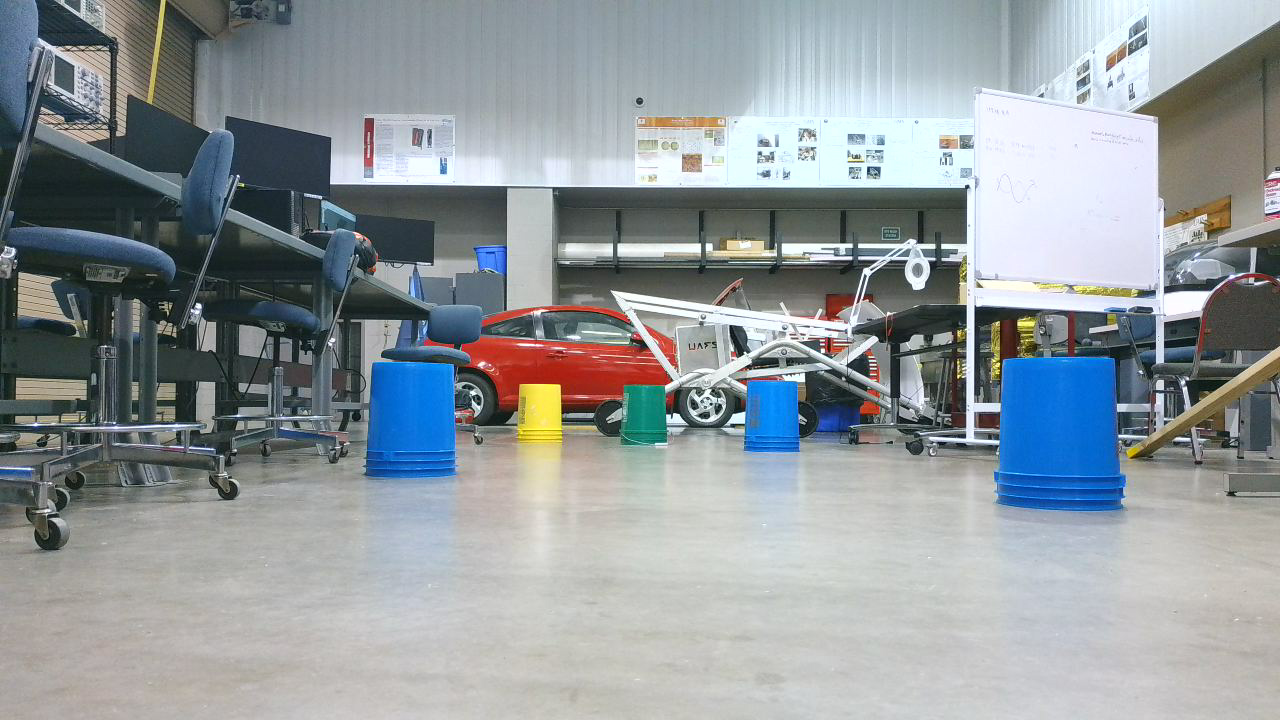blue_bucket: (995, 360, 1138, 519), (365, 363, 466, 486), (747, 382, 809, 460)
green_bucket_barrier: (623, 386, 677, 454)
yellow_bucket: (519, 385, 572, 451)
